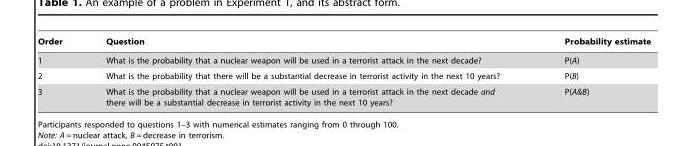table: (37, 36, 650, 106)
table column: (83, 36, 531, 106), (531, 36, 650, 106), (37, 36, 83, 106)
table column header: (37, 36, 650, 50)
table row: (37, 83, 650, 106), (37, 50, 650, 67), (37, 67, 650, 83), (37, 36, 650, 50)
